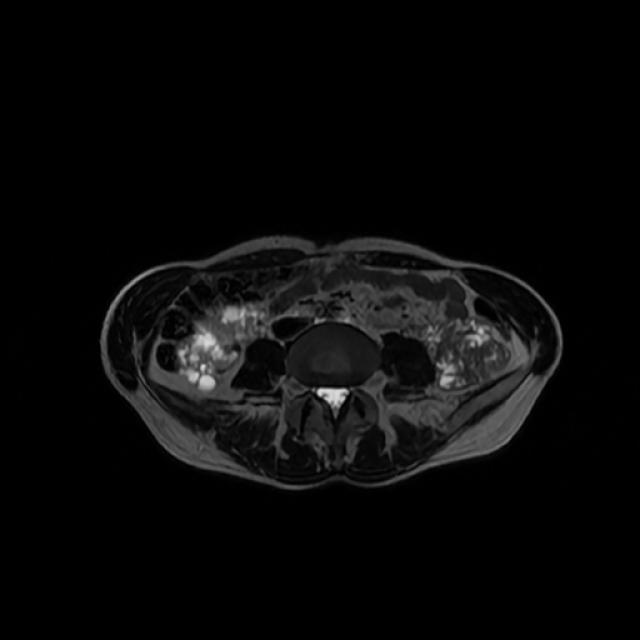sag: (177, 305, 275, 391)
